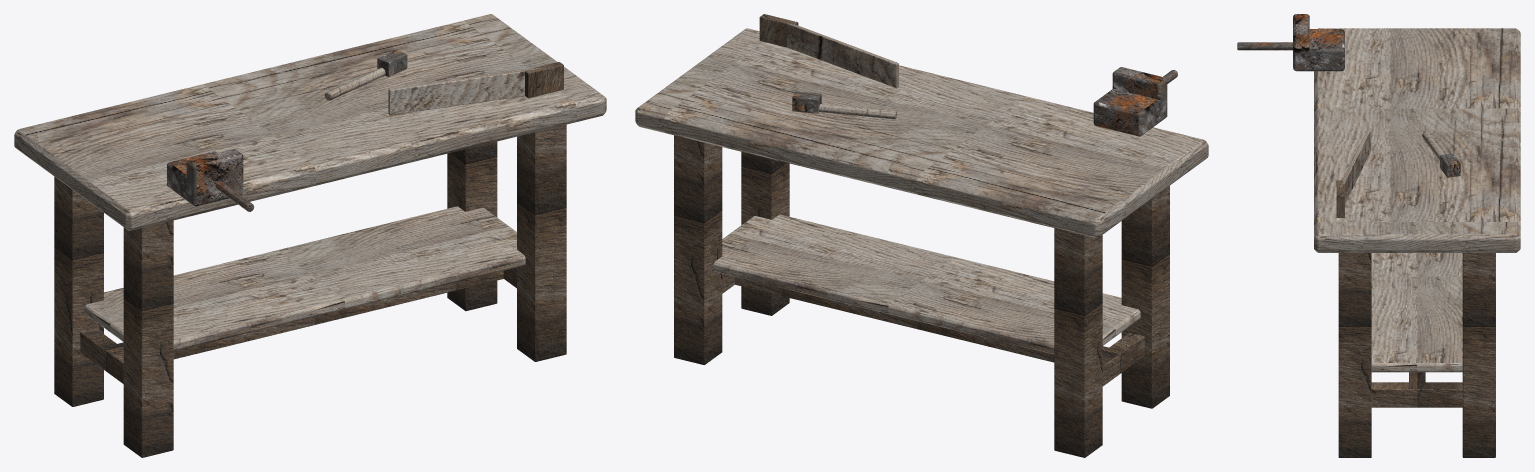
File: workbench-v02.glb
3 views of the same model, side by side, from view 1: azimuth 30°, elevation 25°; view 2: azimuth 150°, elevation 25°; view 3: azimuth 270°, elevation 25° (orthographic). The views are drawn at different scales.
Visible parts, largest first — view 1: workbench; view 2: workbench; view 3: workbench.
Boxes of the visible parts, <box> form: workbench: <box>14,14,606,457</box>; workbench: <box>635,14,1208,457</box>; workbench: <box>1237,14,1520,457</box>.
Size of the model in its own units: 2.4 by 1.45 by 1.37.
Materials: 4 (4 with a texture image).
